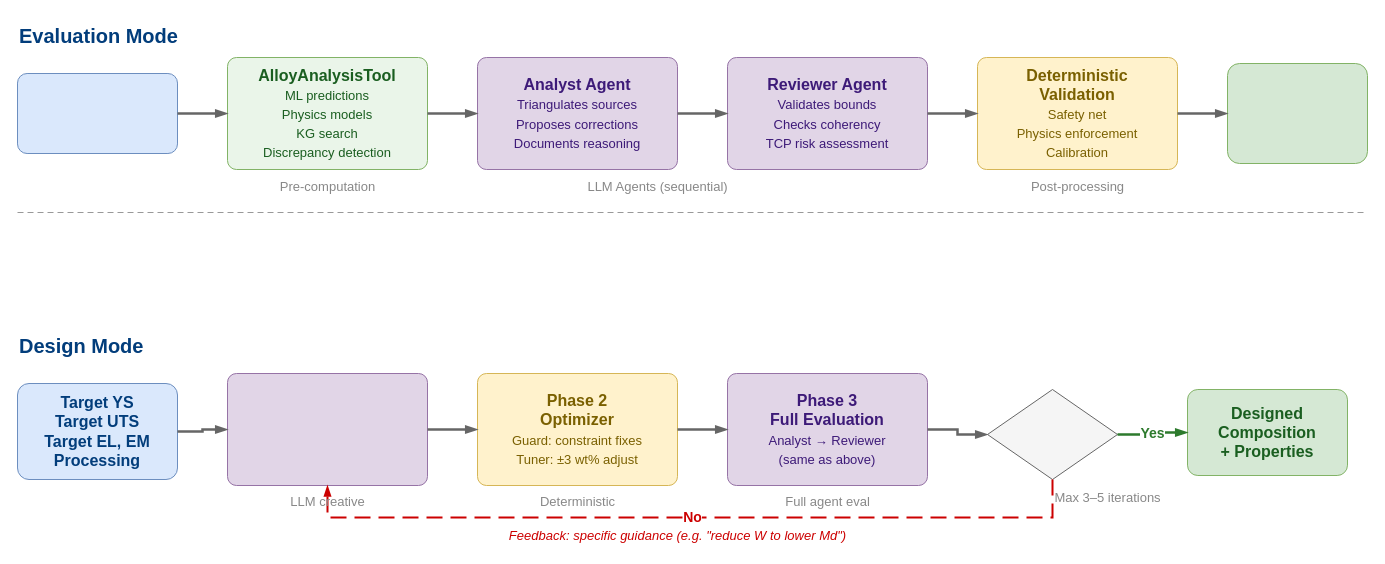
Some shapes in this 1385 by 564 pixel diagram are drawn without their labels. Each missing label, with the centre of its shape:
"Composition Temperature Processing" belongs at (97,113).
"Phase 1 LLM Designer Composition synthesis QuickCheck validation" belongs at (327,429).
"Properties Confidence Intervals TCP Risk" belongs at (1297,113).
"Targets met?" belongs at (1052,434).
